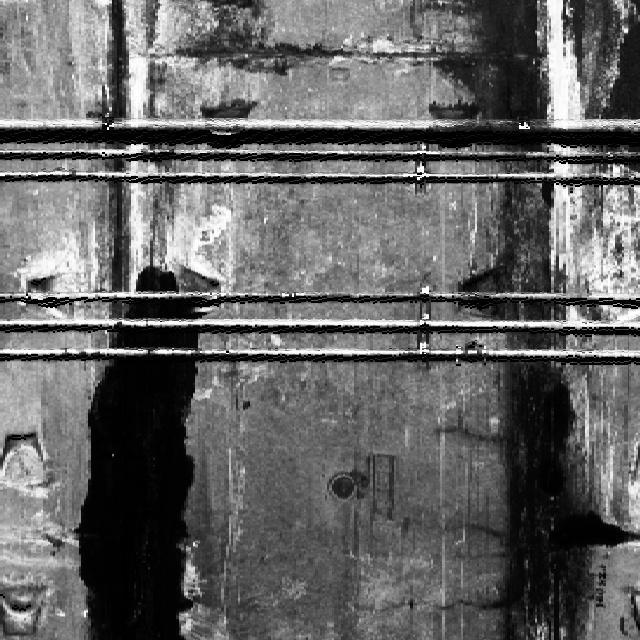leakage: (429, 4, 639, 639), (79, 253, 205, 639)
